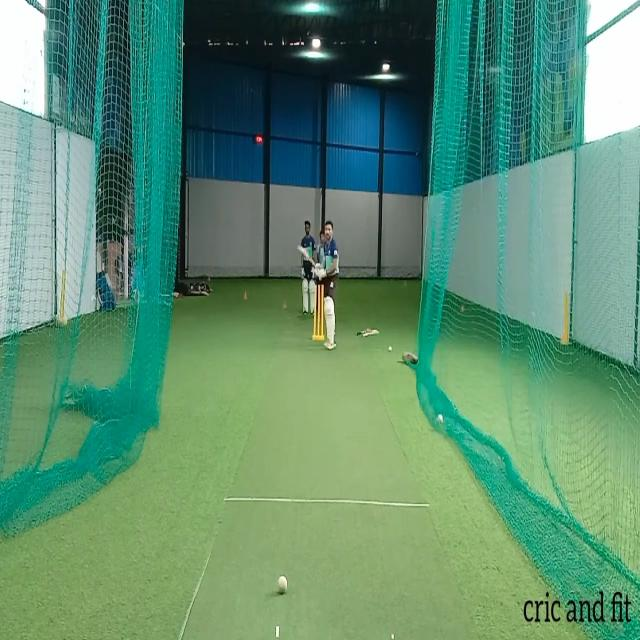batsman: (297, 220, 341, 352)
